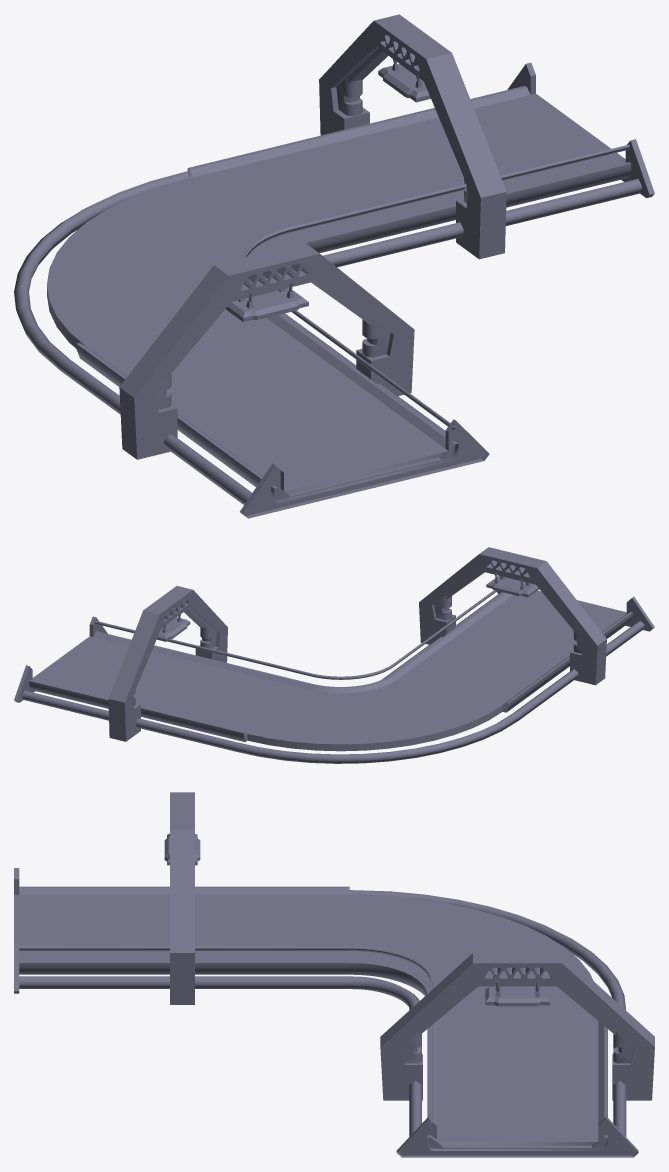
Rendered from RacetrackCorner.fbx.
3 views of the same model, one above another, from view 1: azimuth 30°, elevation 25°; view 2: azimuth 150°, elevation 25°; view 3: azimuth 270°, elevation 25° (orthographic). The views are drawn at different scales.
Parts seen in each view (by area): view 1: Frames.006, LampFrame, LampFrame.003, Frames, Frames.004; view 2: Frames.006, LampFrame, LampFrame.003, Frames.004, Frames; view 3: Frames.006, LampFrame.003, LampFrame, Frames.004.
Part boxes in pixels (bbox=[...]): Frames.006: bbox=[14, 86, 641, 504]; LampFrame: bbox=[119, 243, 414, 459]; LampFrame.003: bbox=[319, 14, 506, 259]; Frames: bbox=[240, 419, 489, 518]; Frames.004: bbox=[507, 62, 654, 198]; Frames.006: bbox=[22, 590, 644, 763]; LampFrame: bbox=[419, 547, 606, 685]; LampFrame.003: bbox=[108, 586, 227, 741]; Frames.004: bbox=[14, 616, 107, 702]; Frames: bbox=[497, 591, 654, 631]; Frames.006: bbox=[14, 886, 626, 1150]; LampFrame.003: bbox=[380, 952, 654, 1100]; LampFrame: bbox=[164, 792, 200, 1004]; Frames.004: bbox=[396, 1116, 638, 1157].
Size of the model in its own units: 9545 by 2332 by 9545.
